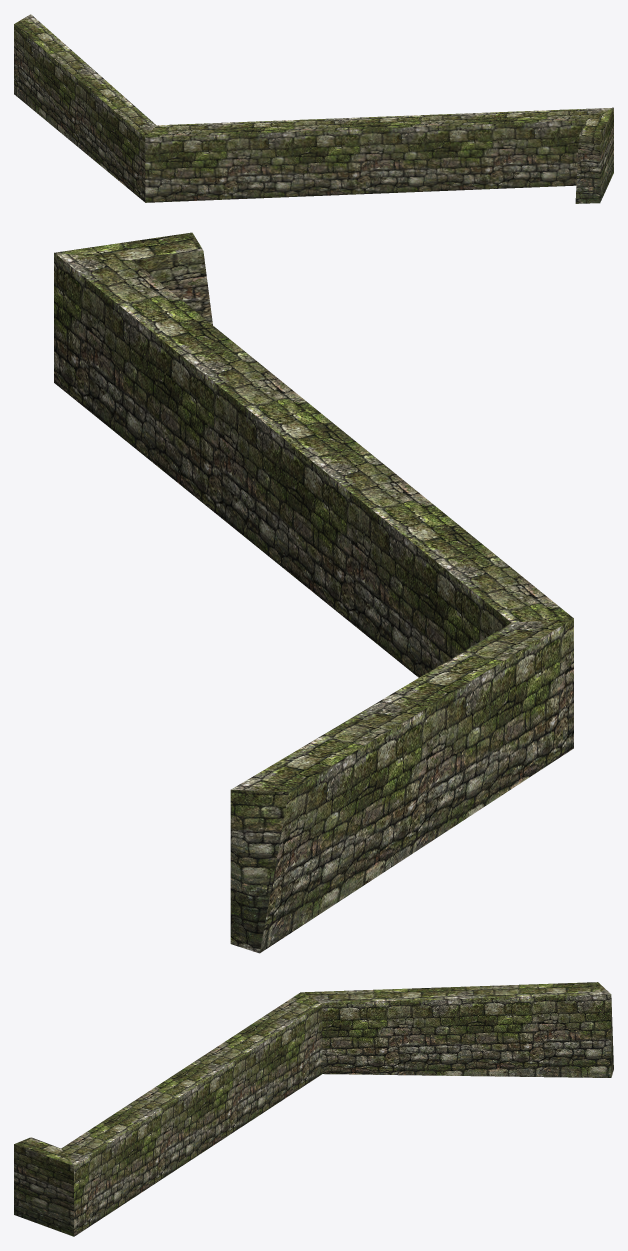
3 renders of one model, top to bottom at view 1: azimuth 30°, elevation 25°; view 2: azimuth 150°, elevation 25°; view 3: azimuth 270°, elevation 25°, orthographic. The views are drawn at different scales.
Parts seen in each view (by area): view 1: TN2_W03-col; view 2: TN2_W03-col; view 3: TN2_W03-col.
Part boxes in pixels (x1=…): TN2_W03-col: x1=14, y1=14, x2=613, y2=203; TN2_W03-col: x1=54, y1=232, x2=573, y2=953; TN2_W03-col: x1=14, y1=982, x2=613, y2=1236.
Size of the model in its own units: 14.24 by 3.09 by 18.72.
Materials: 2 (2 with a texture image).
